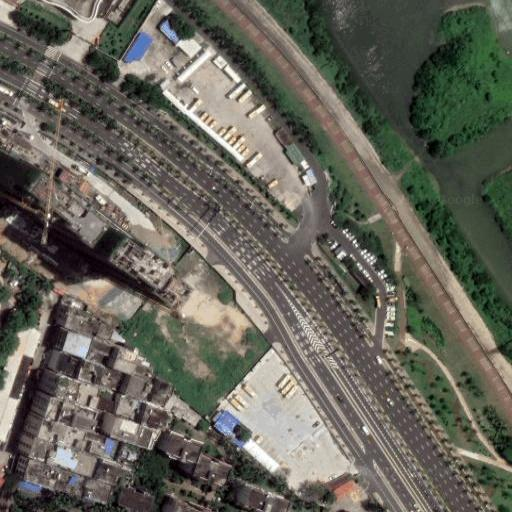building: (58, 211, 143, 285), (0, 153, 59, 223), (159, 18, 199, 57), (212, 411, 253, 448), (192, 455, 232, 487), (245, 487, 291, 512), (166, 393, 201, 425), (124, 32, 154, 69), (113, 349, 151, 378), (167, 434, 203, 464), (82, 430, 118, 459), (24, 461, 59, 489), (53, 470, 88, 498), (44, 397, 76, 425), (140, 406, 172, 433), (87, 338, 119, 365), (61, 330, 93, 357), (29, 436, 58, 465), (119, 488, 153, 512), (71, 449, 100, 477), (38, 417, 68, 444), (82, 478, 112, 505), (124, 375, 152, 403), (66, 313, 100, 336), (52, 443, 78, 471), (54, 376, 82, 402), (77, 359, 105, 385), (111, 419, 140, 444), (54, 353, 82, 378), (71, 405, 97, 431), (62, 424, 88, 450), (330, 480, 358, 504), (99, 366, 125, 391), (134, 425, 160, 449), (116, 395, 142, 419), (76, 383, 100, 408), (99, 461, 125, 484), (152, 380, 174, 406), (170, 500, 206, 512), (95, 321, 114, 340), (94, 396, 115, 413)
